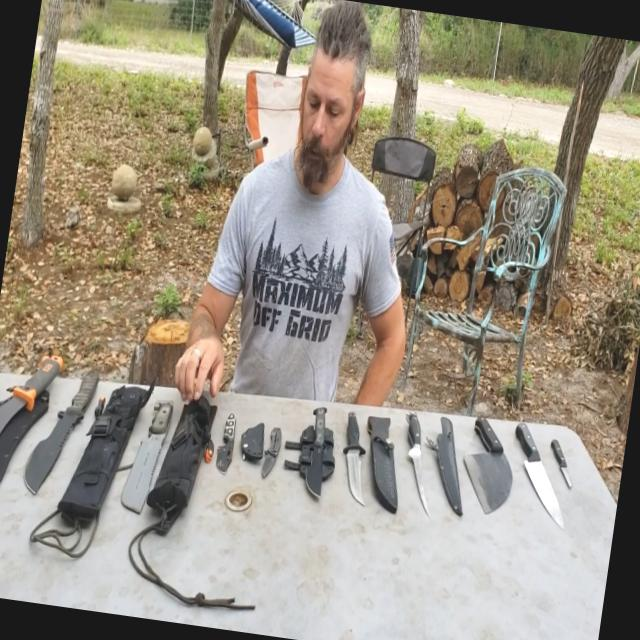knife: (25, 339, 107, 498), (0, 332, 70, 512), (503, 424, 585, 548), (128, 366, 187, 524), (387, 416, 456, 534), (331, 392, 381, 542), (198, 375, 252, 501), (448, 408, 518, 503), (296, 386, 347, 516), (547, 426, 603, 500), (256, 402, 296, 497)
